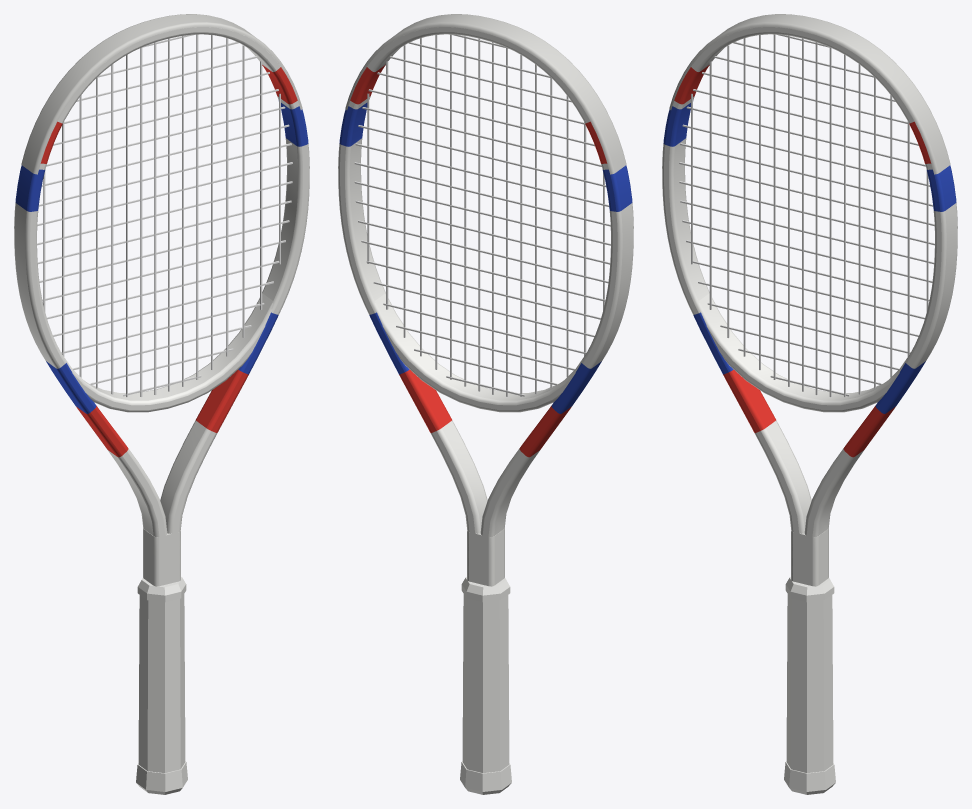
File: tecnifibre-tfight-300-2025.glb
3 renders of one model, left to right at view 1: azimuth 30°, elevation 25°; view 2: azimuth 150°, elevation 25°; view 3: azimuth 330°, elevation 25°, orthographic.
Parts seen in each view (by area): view 1: frame, strings_mains, strings_crosses, grip, bumper, butt_cap, collar; view 2: frame, strings_mains, strings_crosses, grip, bumper, butt_cap, collar; view 3: frame, strings_mains, strings_crosses, grip, bumper, butt_cap, collar.
Part boxes in pixels (x1,y1,x2,y2): frame: (14, 27, 309, 586); strings_mains: (43, 34, 280, 396); strings_crosses: (37, 34, 292, 396); grip: (138, 594, 185, 772); bumper: (21, 14, 302, 174); butt_cap: (136, 761, 187, 794); collar: (137, 577, 186, 602); frame: (338, 27, 633, 586); strings_mains: (367, 34, 604, 396); strings_crosses: (354, 34, 610, 396); grip: (462, 594, 509, 772); bumper: (345, 14, 626, 174); butt_cap: (460, 761, 511, 794); collar: (461, 577, 510, 602); frame: (662, 27, 957, 586); strings_mains: (691, 34, 928, 396); strings_crosses: (679, 34, 934, 396); grip: (786, 594, 833, 772); bumper: (669, 14, 950, 174); butt_cap: (784, 761, 835, 794); collar: (785, 577, 834, 602).
Bounding box in the file's own units: 0.2677 × 0.6861 × 0.0396.
